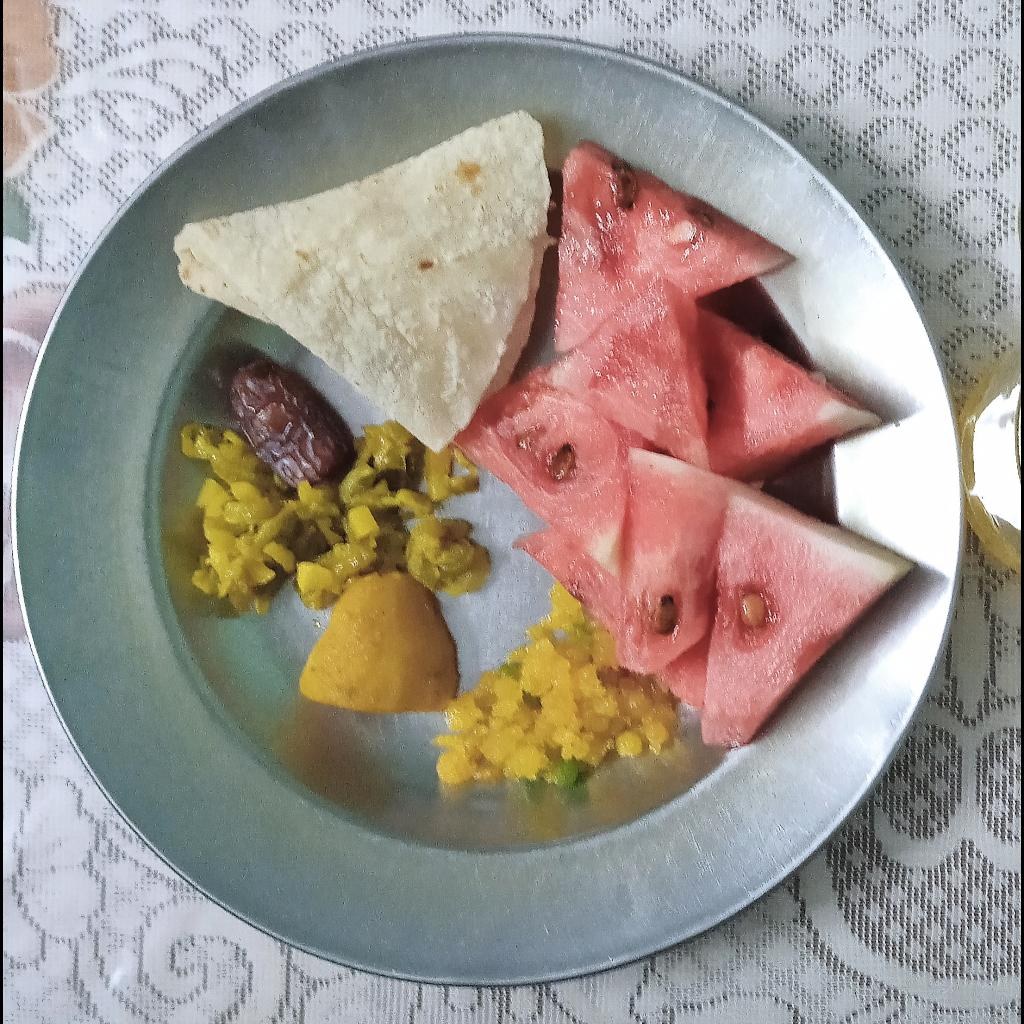burinda: (430, 581, 677, 796)
dates: (230, 358, 356, 486)
potato: (300, 569, 461, 714)
ruti: (173, 107, 550, 454)
vegetable: (182, 423, 492, 617)
watermelon: (458, 142, 915, 747)
